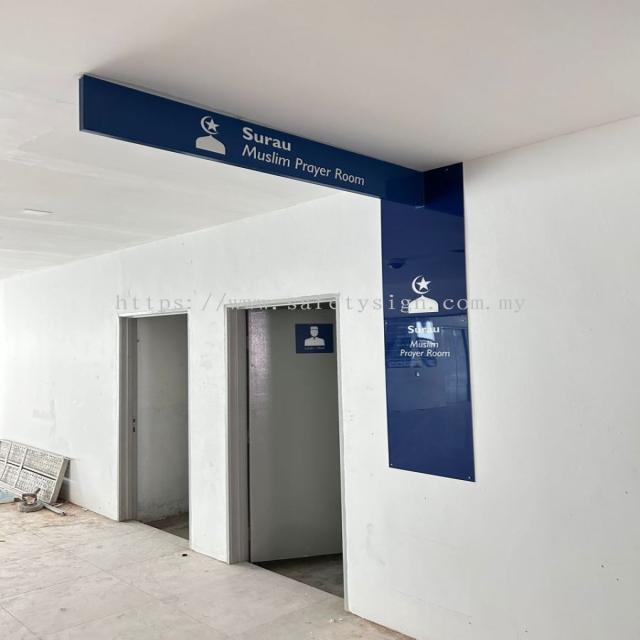surau_icon: (188, 110, 238, 162), (402, 273, 449, 320)
